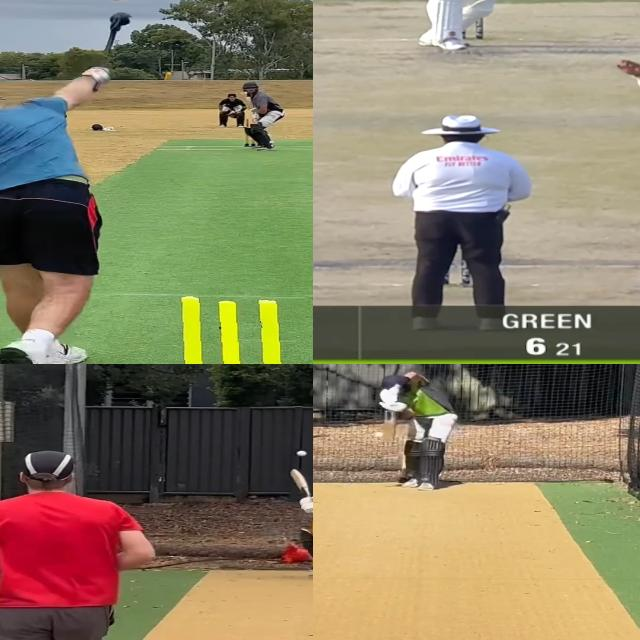Cricket ball: (100, 0, 131, 4), (372, 431, 386, 438), (296, 450, 307, 457)
Stumps: (158, 292, 305, 364)
